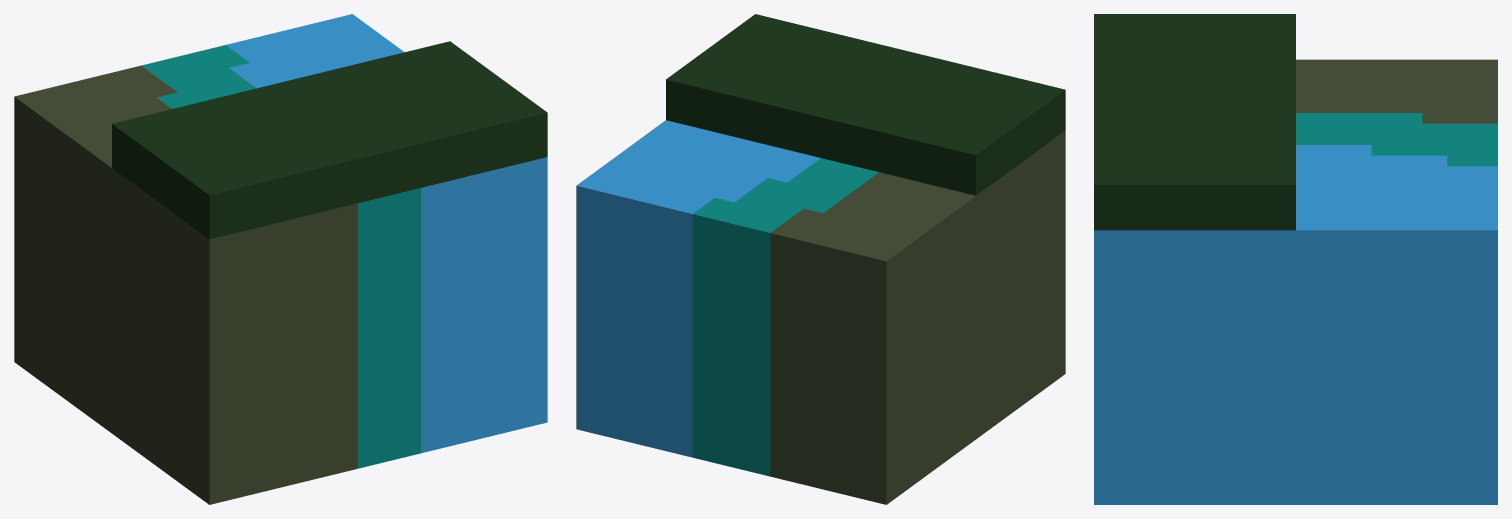
Rendered from swam water&land4.obj.
3 views of the same model, side by side, from view 1: azimuth 30°, elevation 25°; view 2: azimuth 150°, elevation 25°; view 3: azimuth 270°, elevation 25° (orthographic). The views are drawn at different scales.
Bounding box in the file's own units: 1.6 × 1.4 × 1.6.
Materials: 1 (1 with a texture image).
